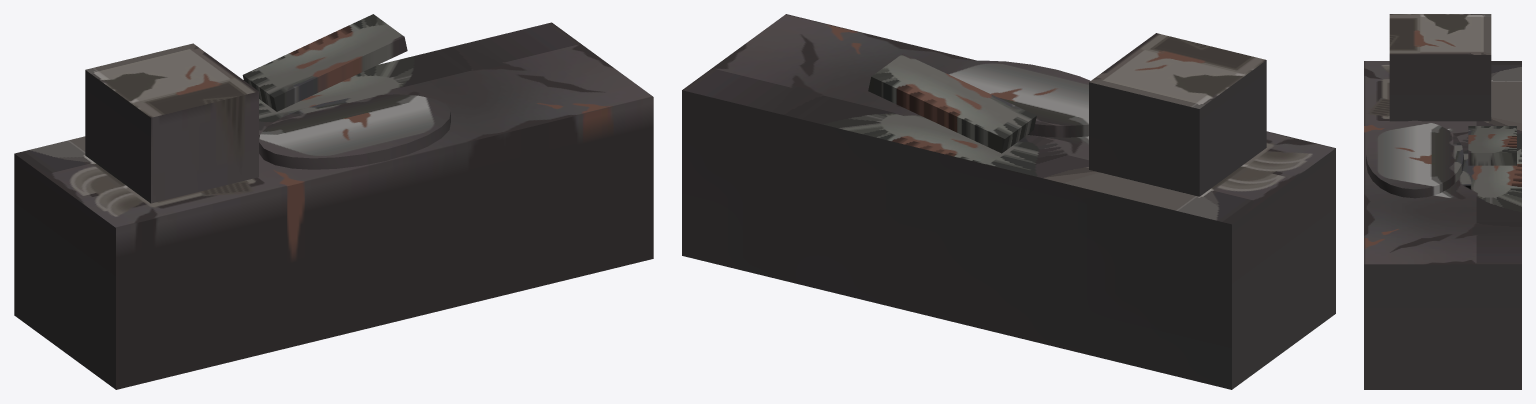
The model's file is Building_AncientTableSmithingElectric.obj.
3 renders of one model, left to right at view 1: azimuth 30°, elevation 25°; view 2: azimuth 150°, elevation 25°; view 3: azimuth 270°, elevation 25°, orthographic. The views are drawn at different scales.
Parts seen in each view (by area): view 1: Body; view 2: Body; view 3: Body.
Part boxes in pixels (x1=…): Body: x1=14, y1=14, x2=653, y2=389; Body: x1=682, y1=14, x2=1335, y2=389; Body: x1=1364, y1=14, x2=1521, y2=389.
Size of the model in its own units: 2.95 by 1.3 by 0.9688.
Materials: 1 (1 with a texture image).
